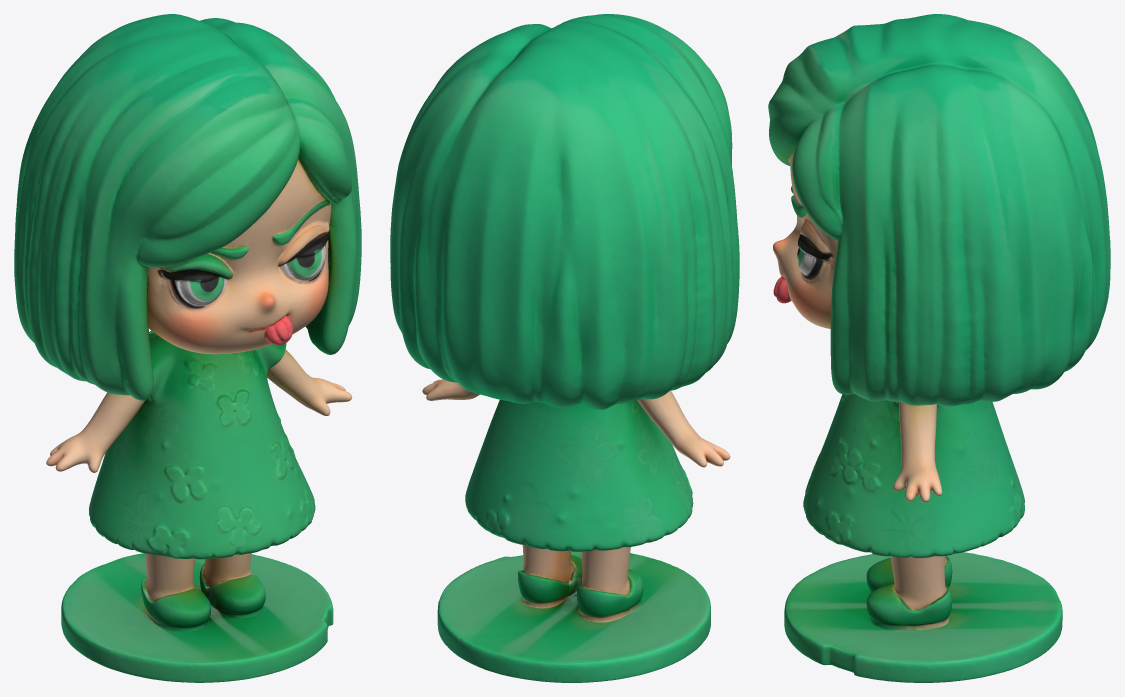
File: Yucky.glb
3 renders of one model, left to right at view 1: azimuth 30°, elevation 25°; view 2: azimuth 150°, elevation 25°; view 3: azimuth 270°, elevation 25°, orthographic.
Bounding box in the file's own units: 1.03 × 1.9 × 0.9949.
1 material, 1 textured.
